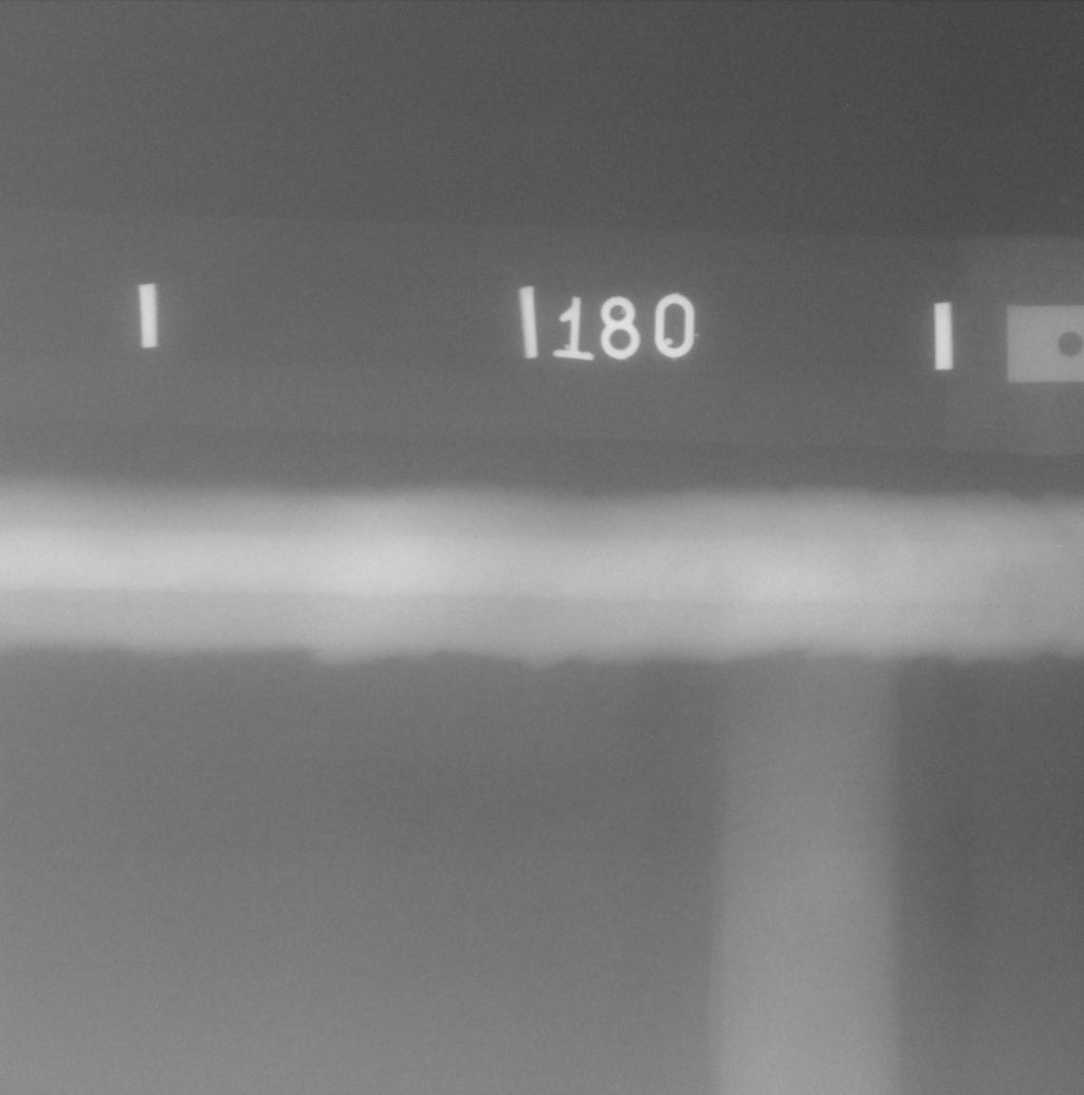Inclusion: (832, 581, 839, 595)
